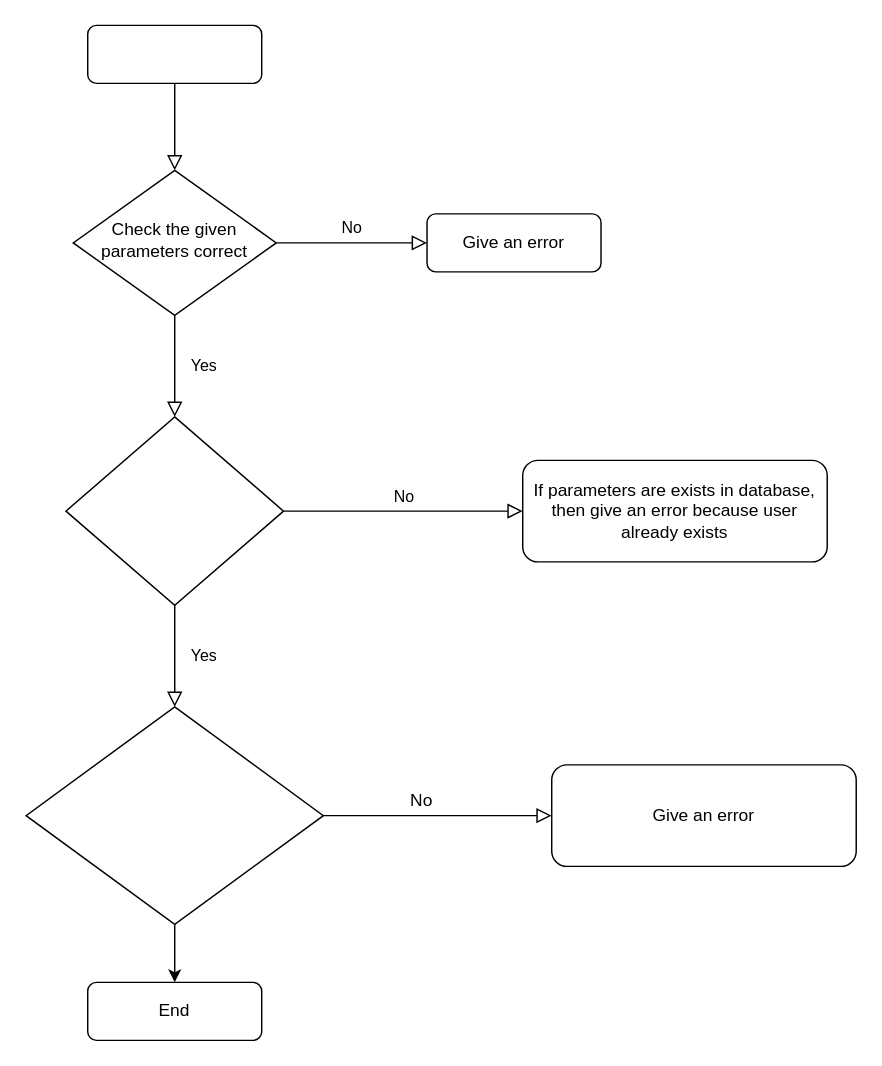
Image size: 882x1066. Some labels were removed from this diagram. Here are the shapes that lost their labels. From the top down, the centre of each, then its label:
point 174,53: Router.post /register
point 174,510: Find the user using given parameters
point 174,814: Create a user to the db and save it
